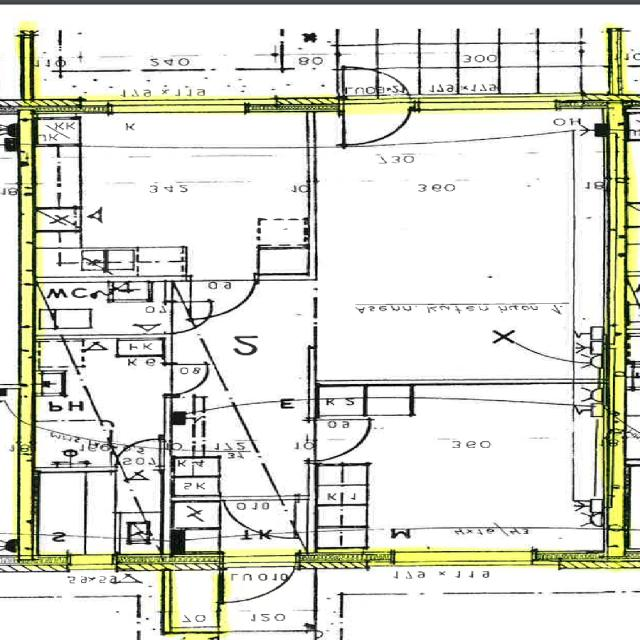door: (219, 551, 297, 613), (340, 94, 412, 155), (339, 52, 412, 112), (225, 495, 298, 543), (306, 420, 384, 461), (192, 276, 256, 320), (164, 301, 226, 332), (164, 364, 225, 394), (115, 441, 159, 472)
